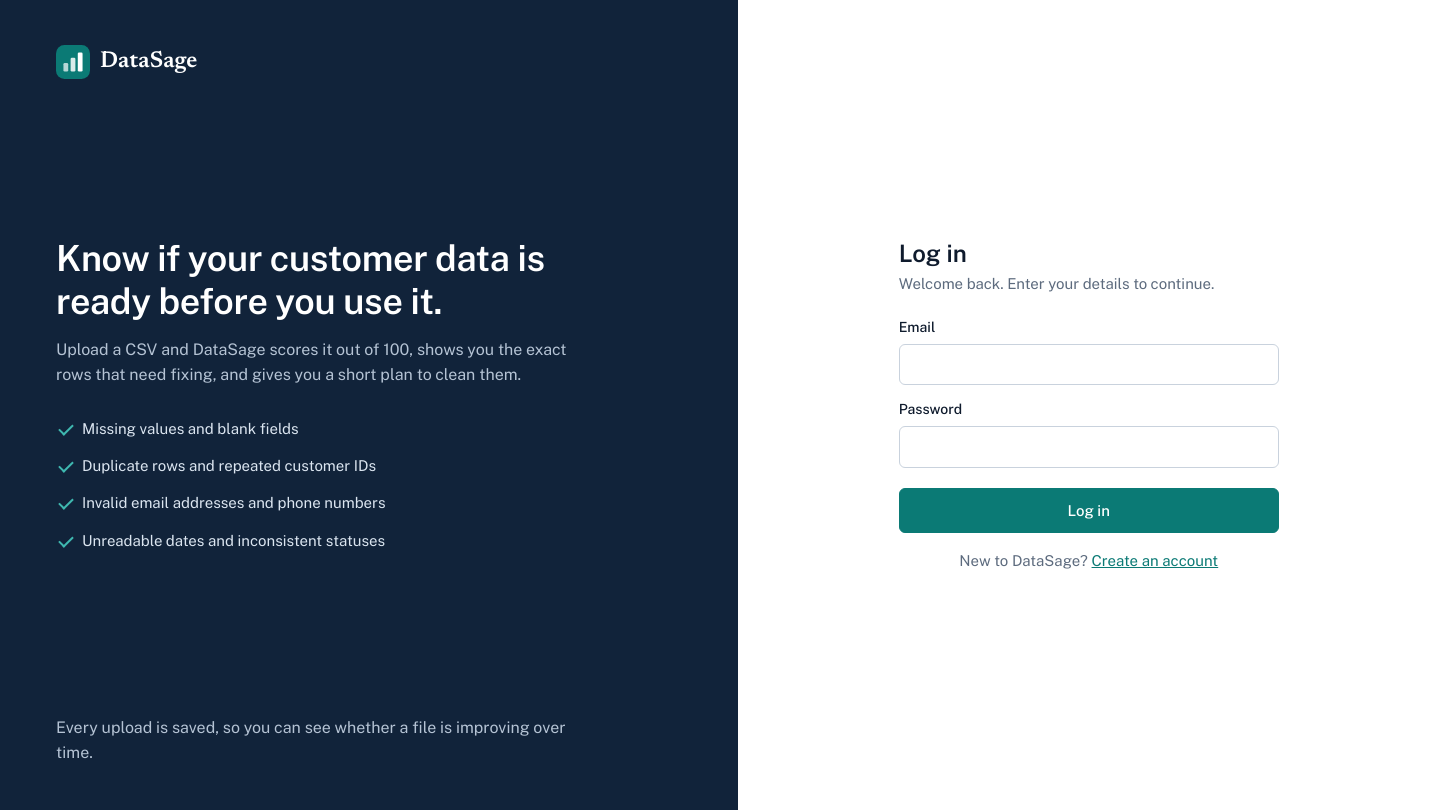
Test case: login flow › shows the server's error message on a bad login
Type "a@b.com" into the field labelled "Email". click: coordinates (1089, 365)
box: [899,344,1279,385]
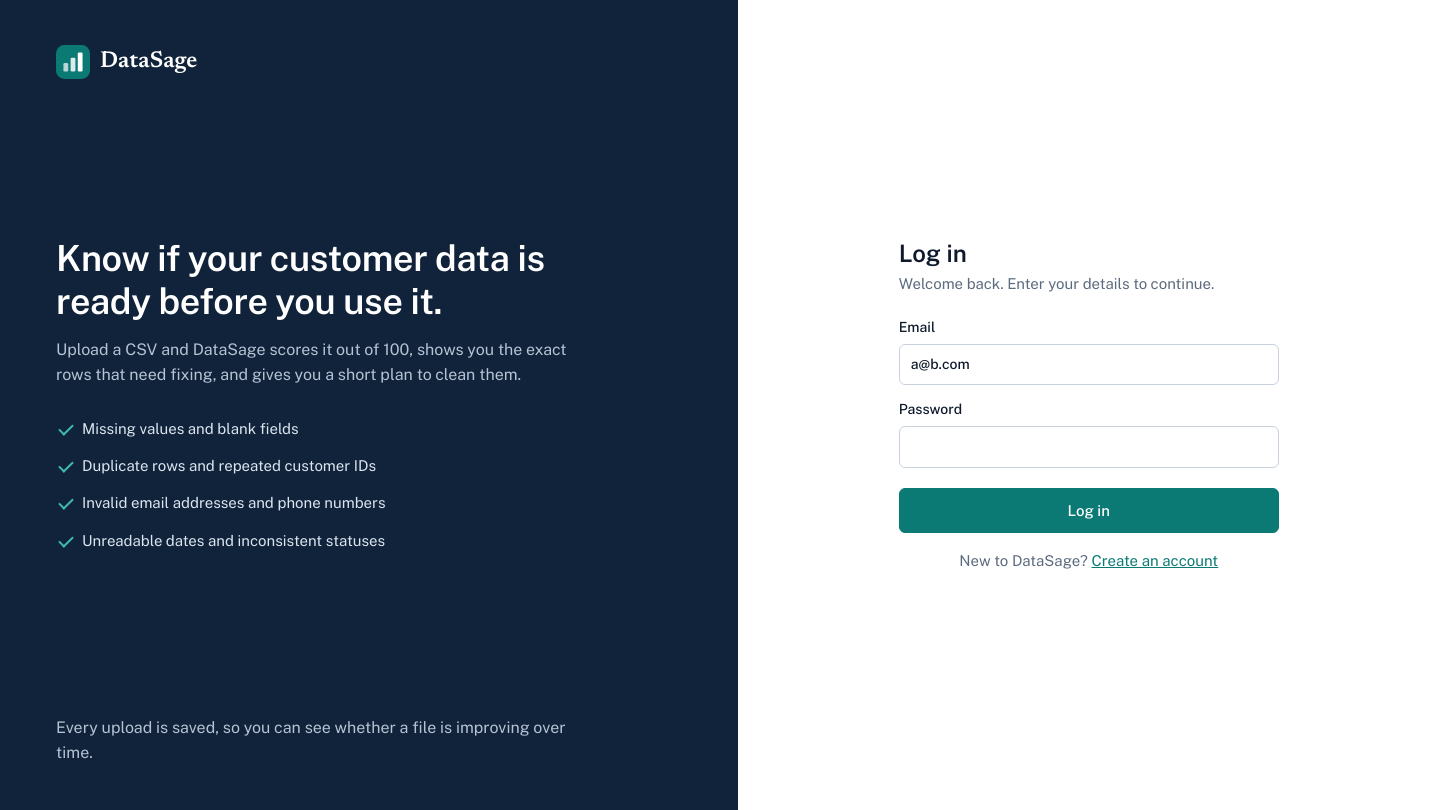
Type "wrongpass" into the password field labelled "Password". click: coordinates (1089, 447)
box: [899,426,1279,468]
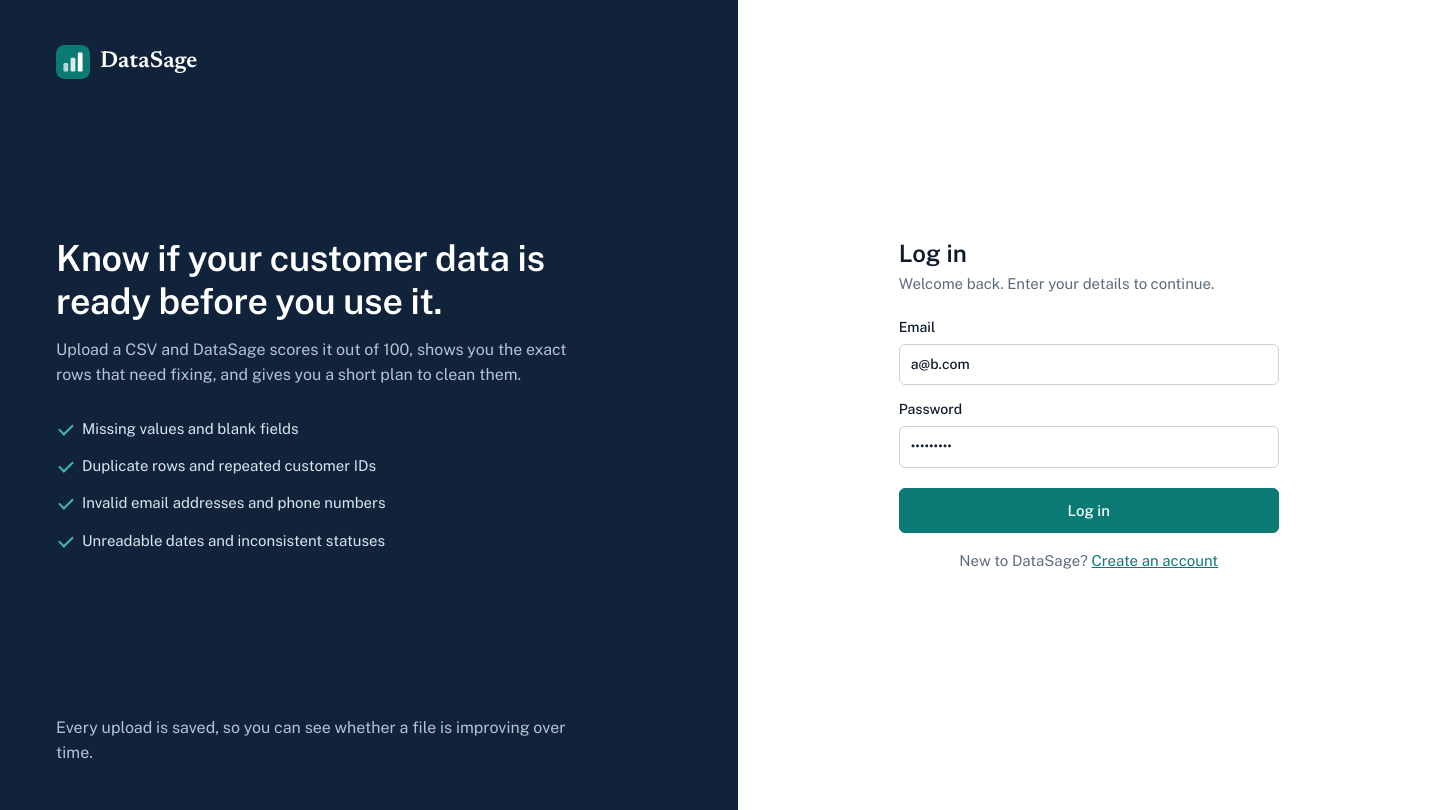
Click the button "Log in". click: coordinates (1089, 510)
box: [899,488,1279,533]
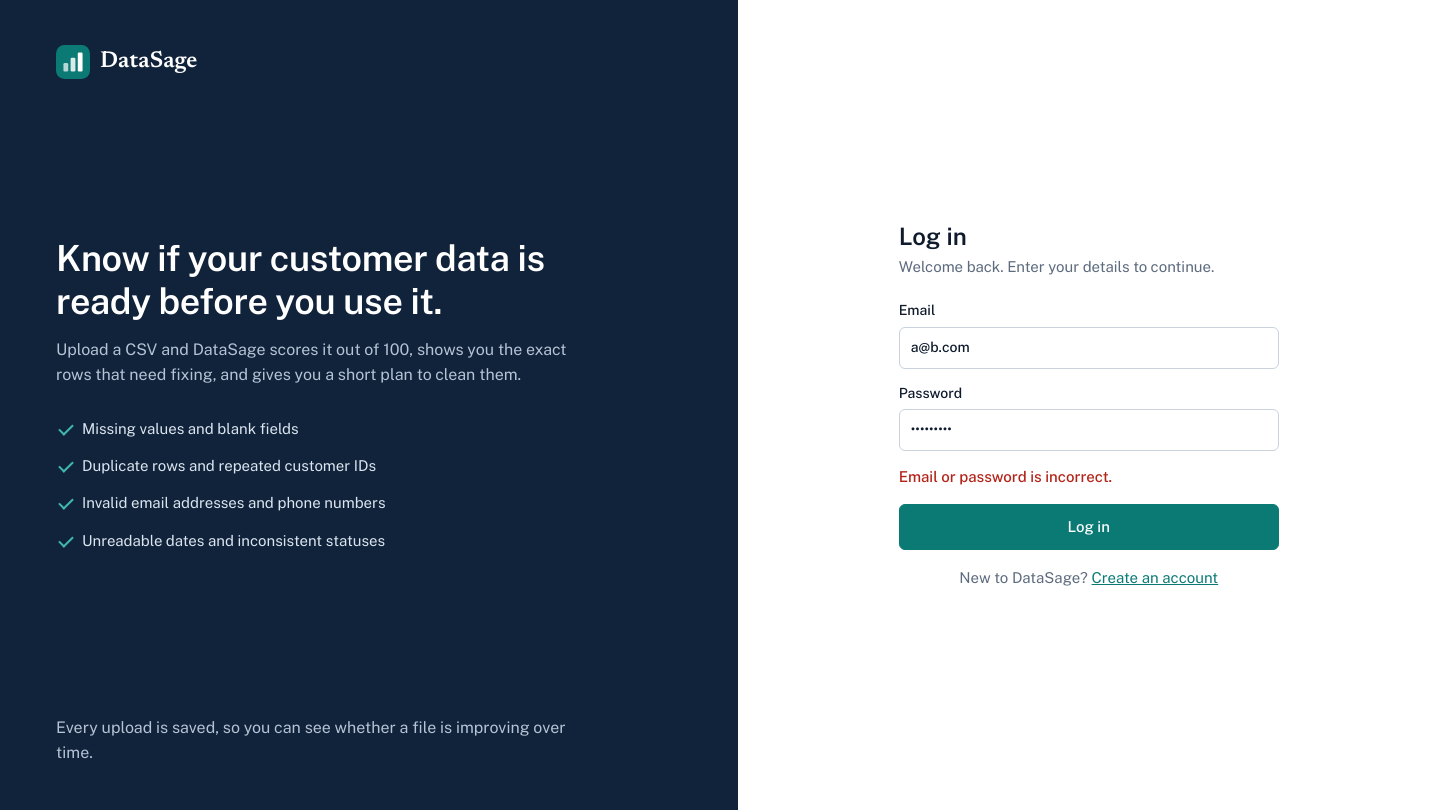
Now the message reads "Email or password is incorrect.", box [899,468,1112,485]
